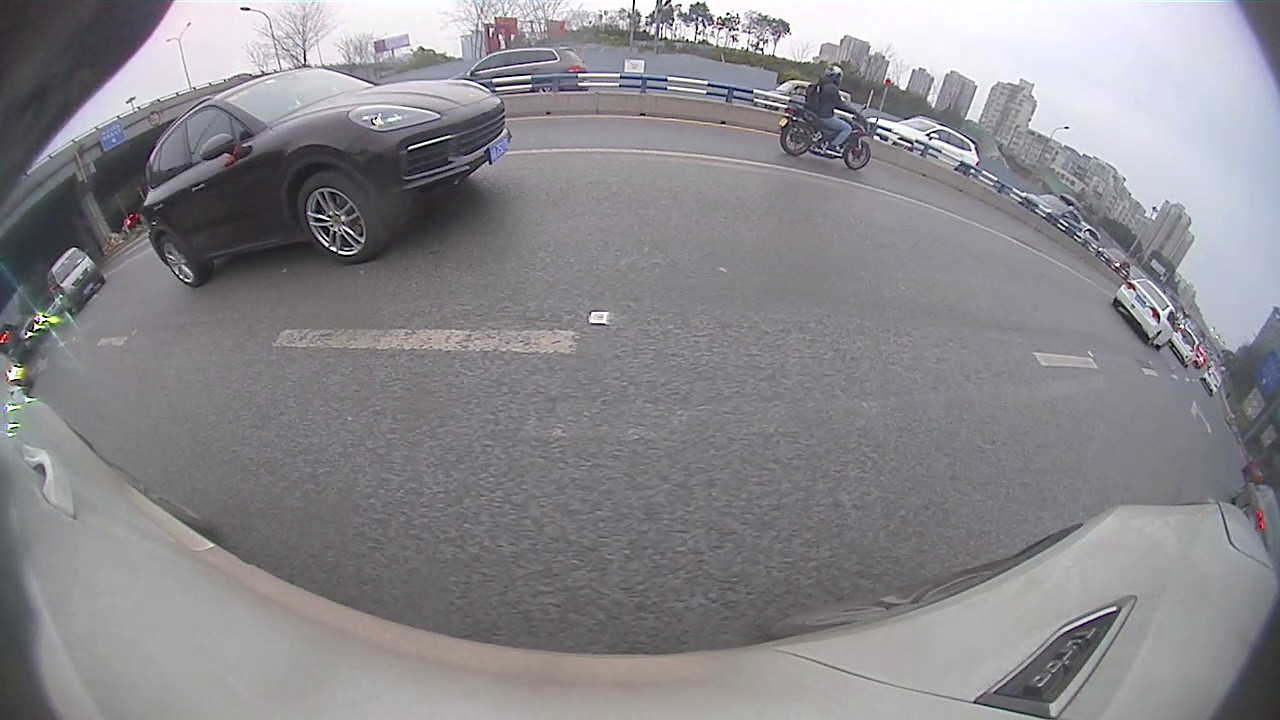car: (139, 66, 513, 287), (449, 45, 592, 93), (1113, 277, 1178, 351), (46, 244, 108, 314), (1170, 322, 1200, 369)
front: (299, 172, 378, 265)
rear: (158, 232, 205, 288)
rider: (775, 61, 880, 171)
